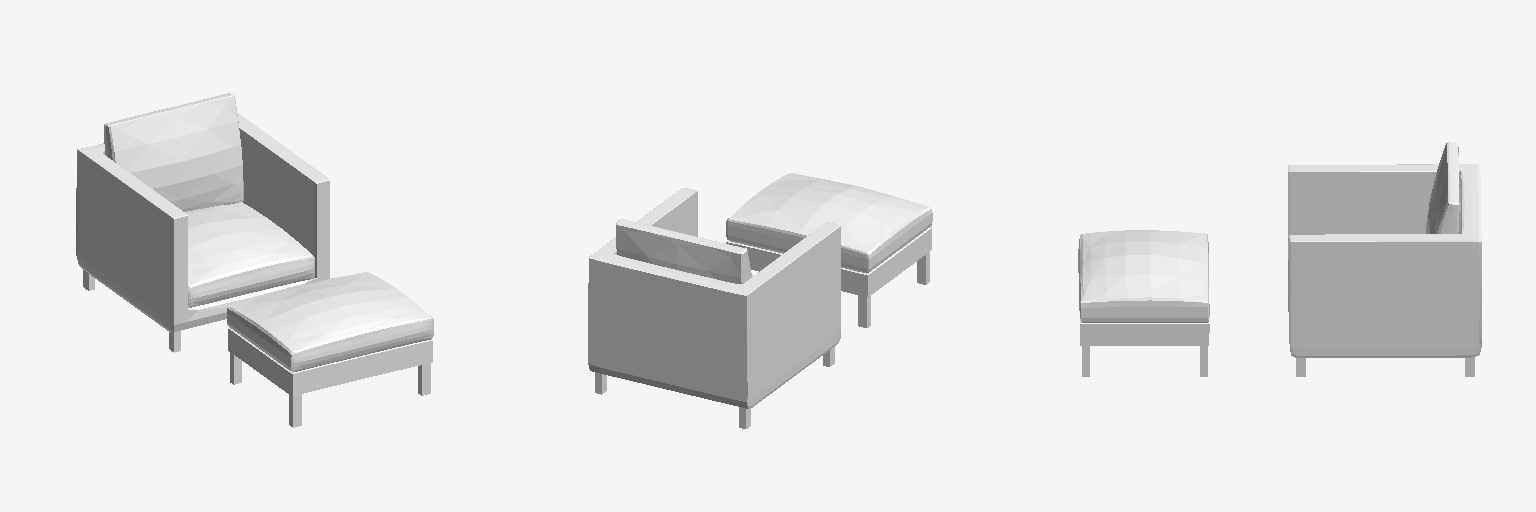
The model's file is relax-sofa.obj.
3 renders of one model, left to right at view 1: azimuth 30°, elevation 25°; view 2: azimuth 150°, elevation 25°; view 3: azimuth 270°, elevation 25°, orthographic.
Parts seen in each view (by area): view 1: relax-sofa; view 2: relax-sofa; view 3: relax-sofa.
Boxes of the visible parts, <box> form: relax-sofa: <box>76,93,433,427</box>; relax-sofa: <box>588,173,932,428</box>; relax-sofa: <box>1078,142,1481,376</box>.
Size of the model in its own units: 0.8875 by 0.8925 by 1.94.